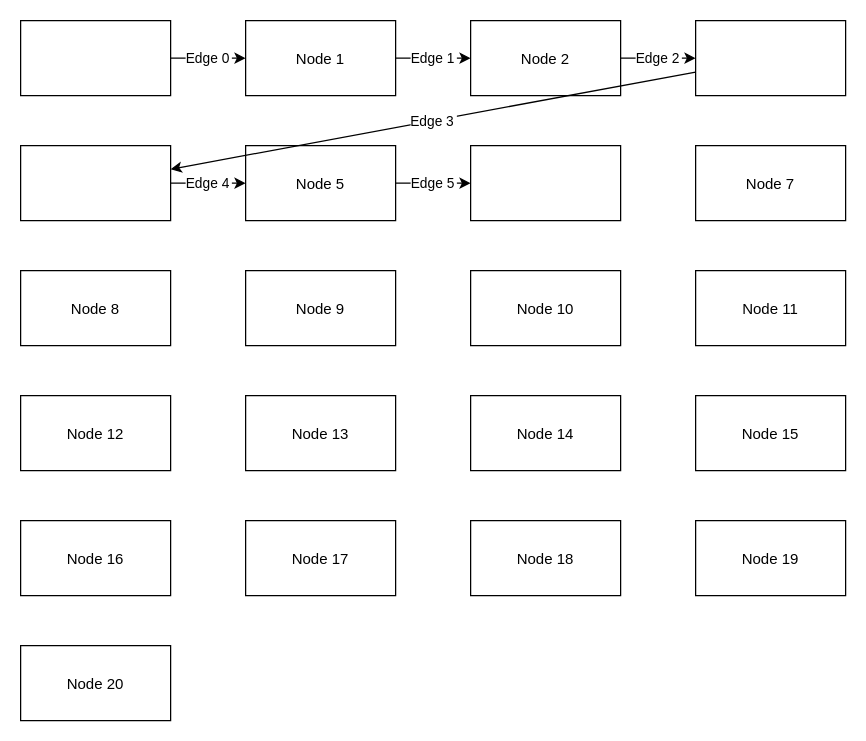
Some shapes in this 866 by 741 pixel diagram are drawn without their labels. The centre of each missing label's shape, as x and y in pixels:
"Node 0" goes at point 95,57.
"Node 3" goes at point 770,57.
"Node 4" goes at point 95,182.
"Node 6" goes at point 545,182.
